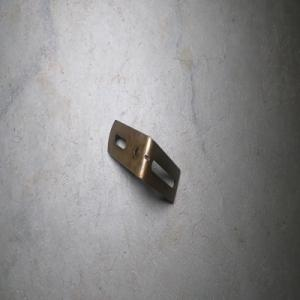MetalPart: (105, 118, 181, 205)
